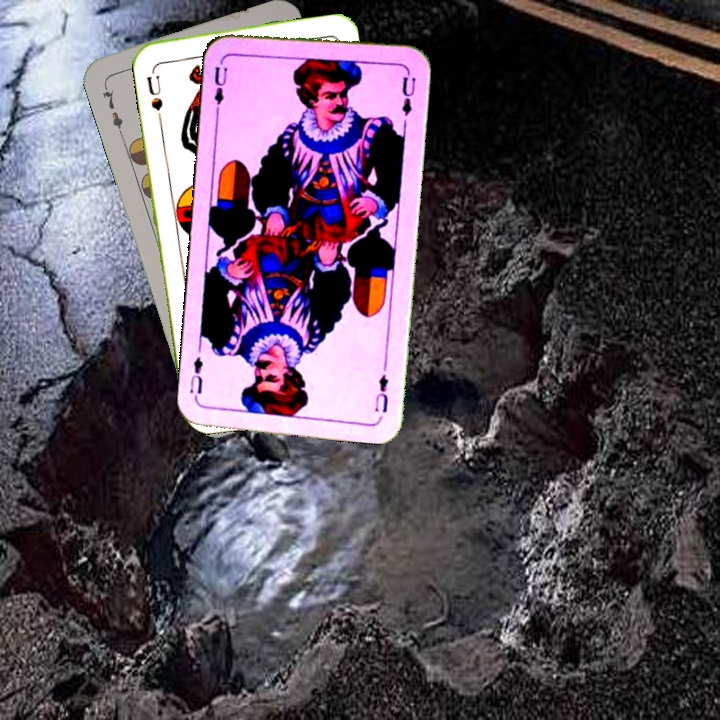E7: (99, 80, 126, 138)
EU: (210, 55, 230, 114), (370, 370, 391, 415)
SU: (142, 63, 166, 113)
